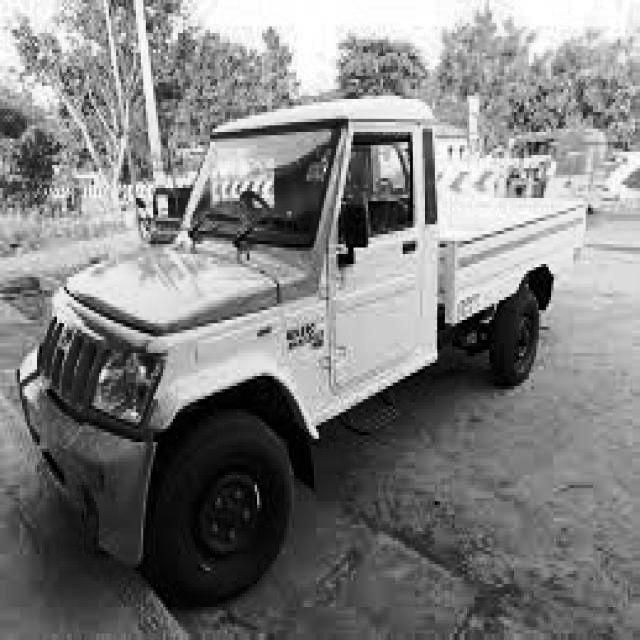HCV: (9, 69, 591, 597)
